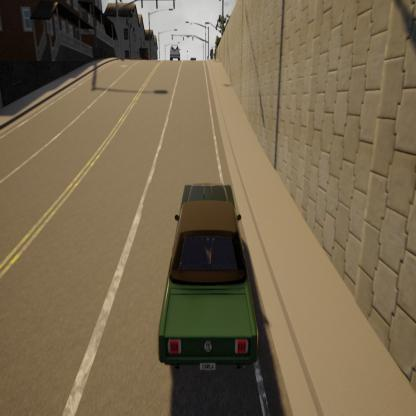Cars: (161, 174, 265, 384), (167, 42, 182, 63)
